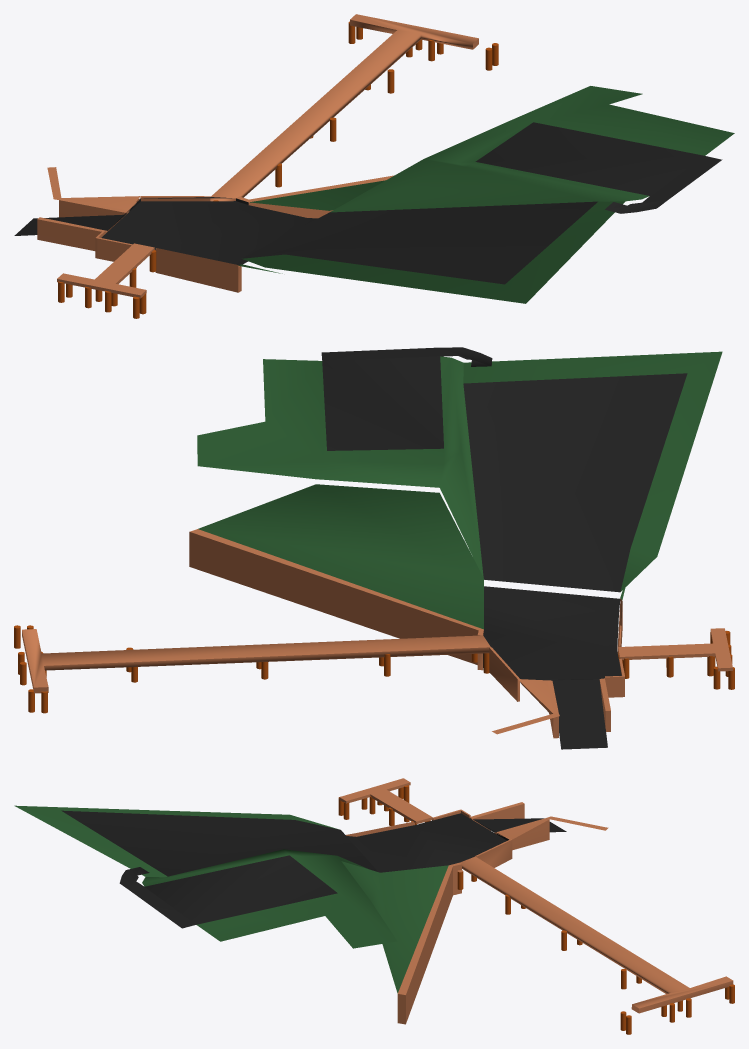
The model's file is boatrampunfin3.glb.
The picture shows the model from 3 angles, top to bottom: view 1: azimuth 30°, elevation 25°; view 2: azimuth 150°, elevation 25°; view 3: azimuth 270°, elevation 25°; orthographic projection. The views are drawn at different scales.
Visible parts, largest first — view 1: Boat Launch.002; view 2: Boat Launch.002; view 3: Boat Launch.002.
Boxes of the visible parts, bbox=[...] form: Boat Launch.002: bbox=[14, 14, 734, 318]; Boat Launch.002: bbox=[14, 347, 734, 749]; Boat Launch.002: bbox=[14, 778, 734, 1034].
Size of the model in its own units: 0.2298 by 0.0451 by 0.2945.
